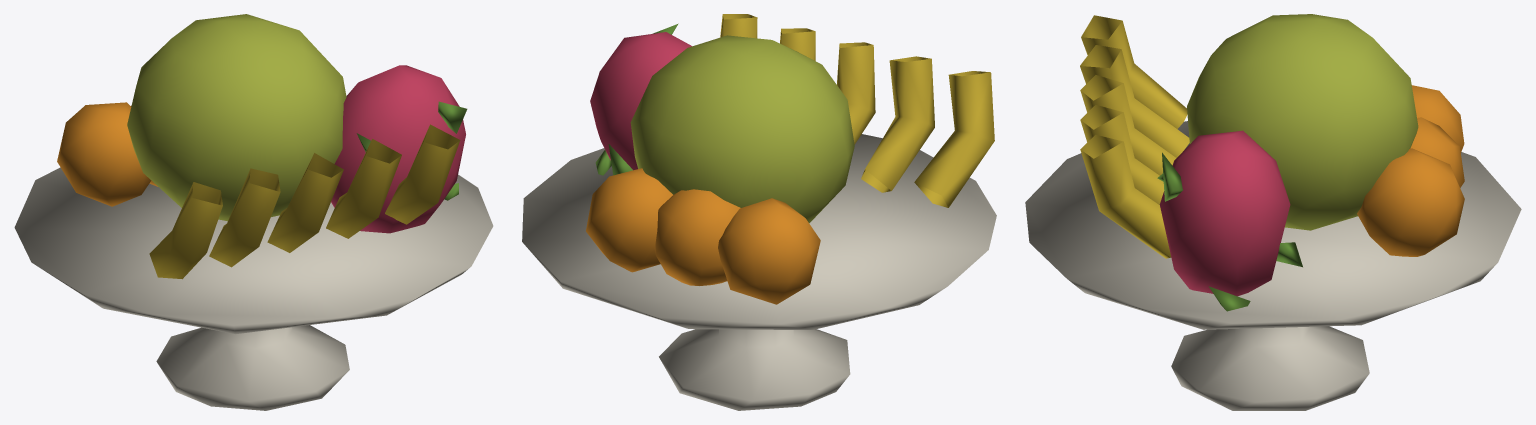
Rendered from mam_ngu_qua.glb.
3 renders of one model, left to right at view 1: azimuth 30°, elevation 25°; view 2: azimuth 150°, elevation 25°; view 3: azimuth 270°, elevation 25°, orthographic. The views are drawn at different scales.
Visible parts, largest first — view 1: mam_ngu_qua; view 2: mam_ngu_qua; view 3: mam_ngu_qua.
Part boxes in pixels (x1,y1,x2,y2): mam_ngu_qua: (14, 14, 493, 410); mam_ngu_qua: (522, 14, 996, 410); mam_ngu_qua: (1025, 14, 1521, 410).
Bounding box in the file's own units: 0.3187 × 0.2491 × 0.3207.
